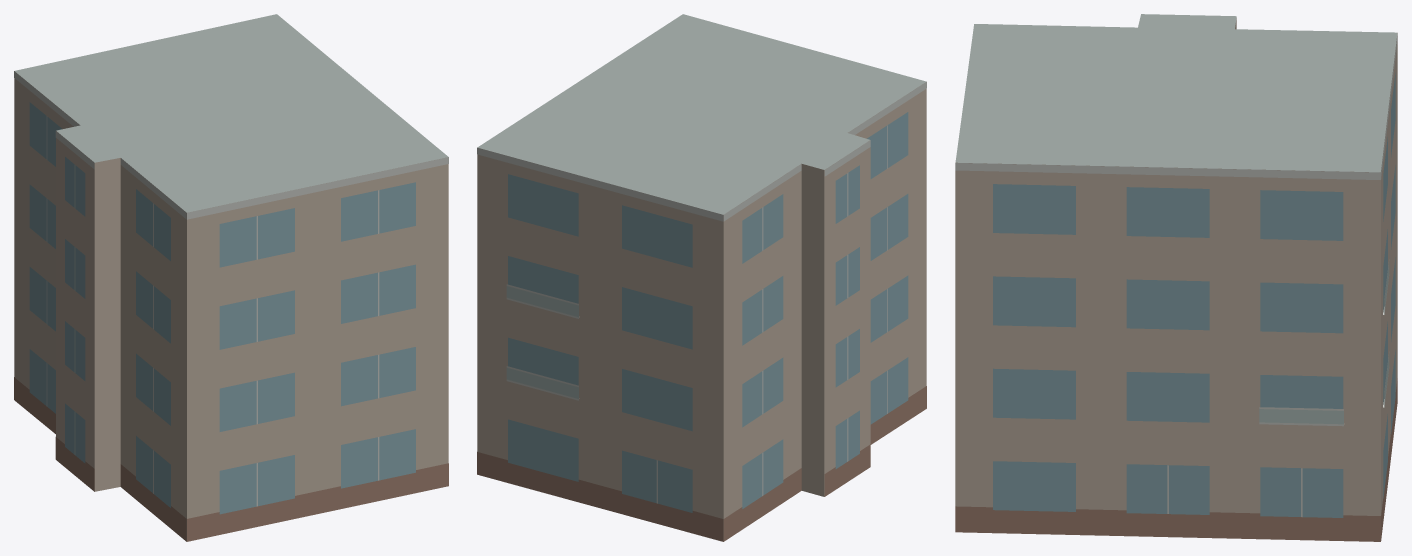
File: survey-upis-32702929.glb
The picture shows the model from 3 angles, left to right: view 1: azimuth 30°, elevation 25°; view 2: azimuth 150°, elevation 25°; view 3: azimuth 270°, elevation 25°; orthographic projection. The views are drawn at different scales.
Parts seen in each view (by area): view 1: survey-upis-32702929.tmp; view 2: survey-upis-32702929.tmp; view 3: survey-upis-32702929.tmp.
Part boxes in pixels (x1,y1,x2,y2): survey-upis-32702929.tmp: (14,14,448,541); survey-upis-32702929.tmp: (477,14,926,541); survey-upis-32702929.tmp: (955,14,1397,541).
Size of the model in its own units: 10.67 by 11.6 by 12.59.
